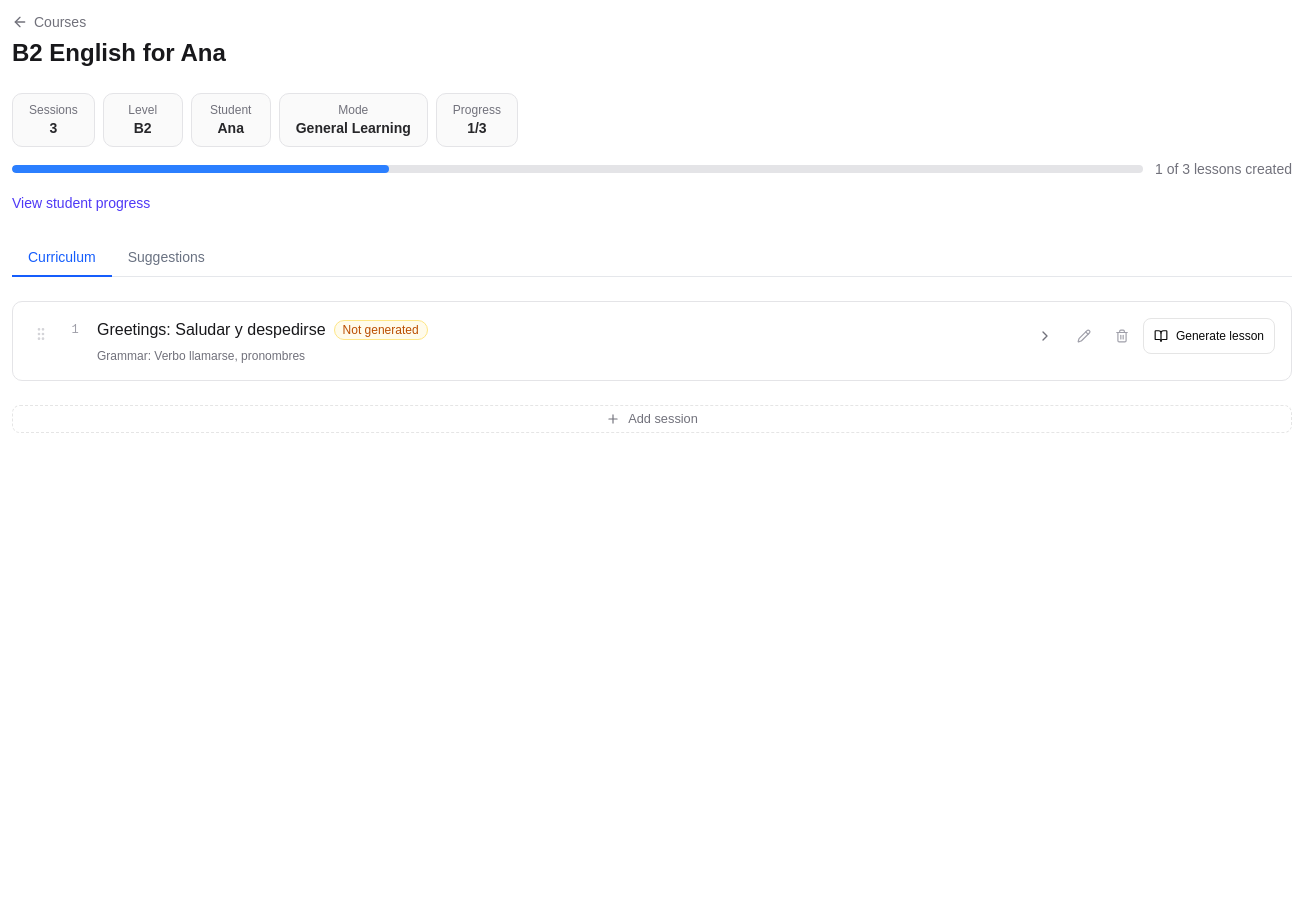
Test: CourseDetail › expanded entry shows all fields when fully populated
Expected: the heading "B2 English for Ana" is shown, left=12, top=37, right=226, bottom=69
Click the button with test id "expand-entry-0". click: click(1045, 336)
box: left=1027, top=318, right=1063, bottom=354
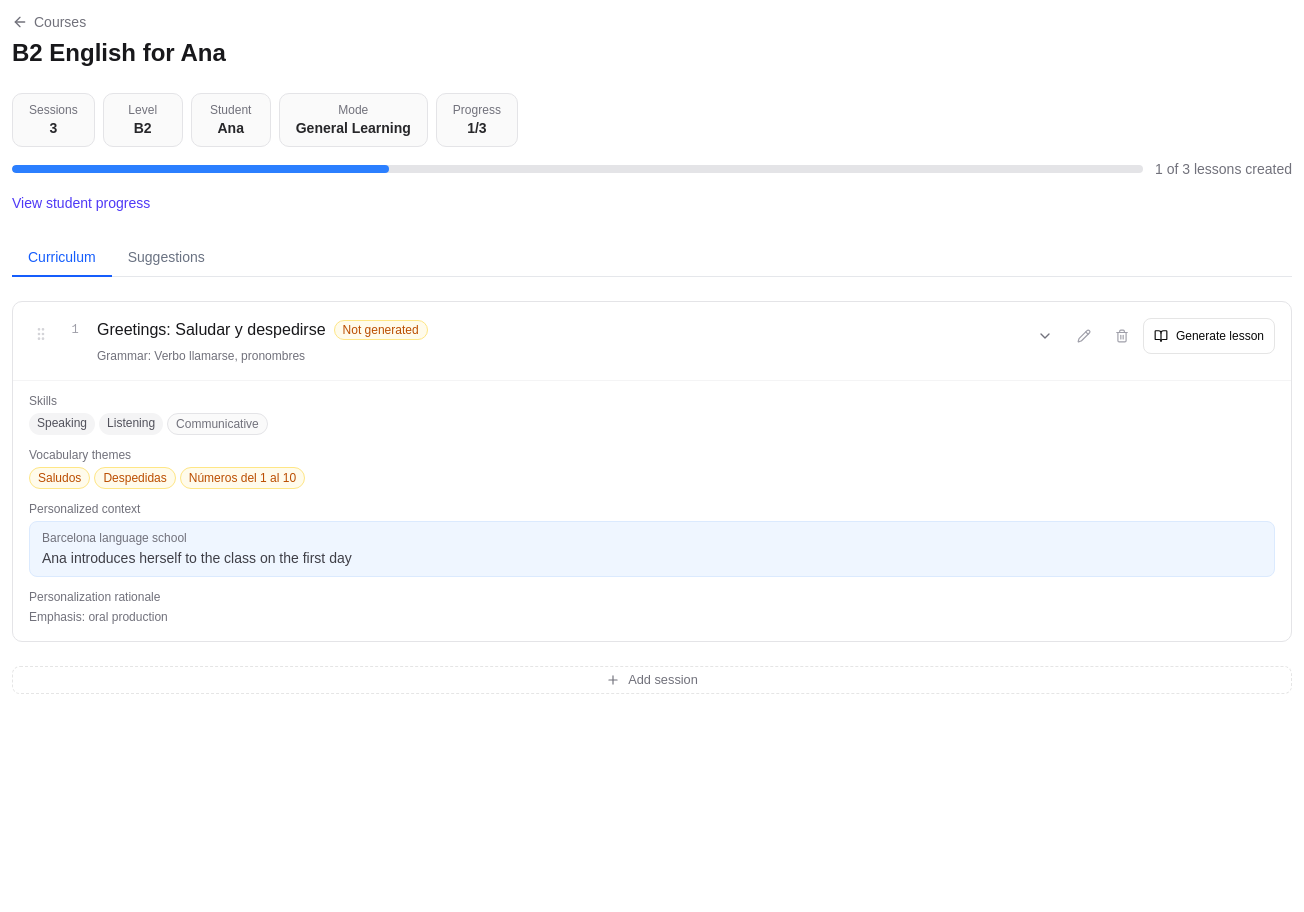
Expected: the element with test id "context-description-0" shows "Ana introduces herself to the class on the first day", left=42, top=550, right=352, bottom=566
Expected: the element with test id "personalization-notes-0" shows "oral production", left=88, top=610, right=168, bottom=624
Expected: the text "Saludos" is shown, left=29, top=467, right=90, bottom=489
